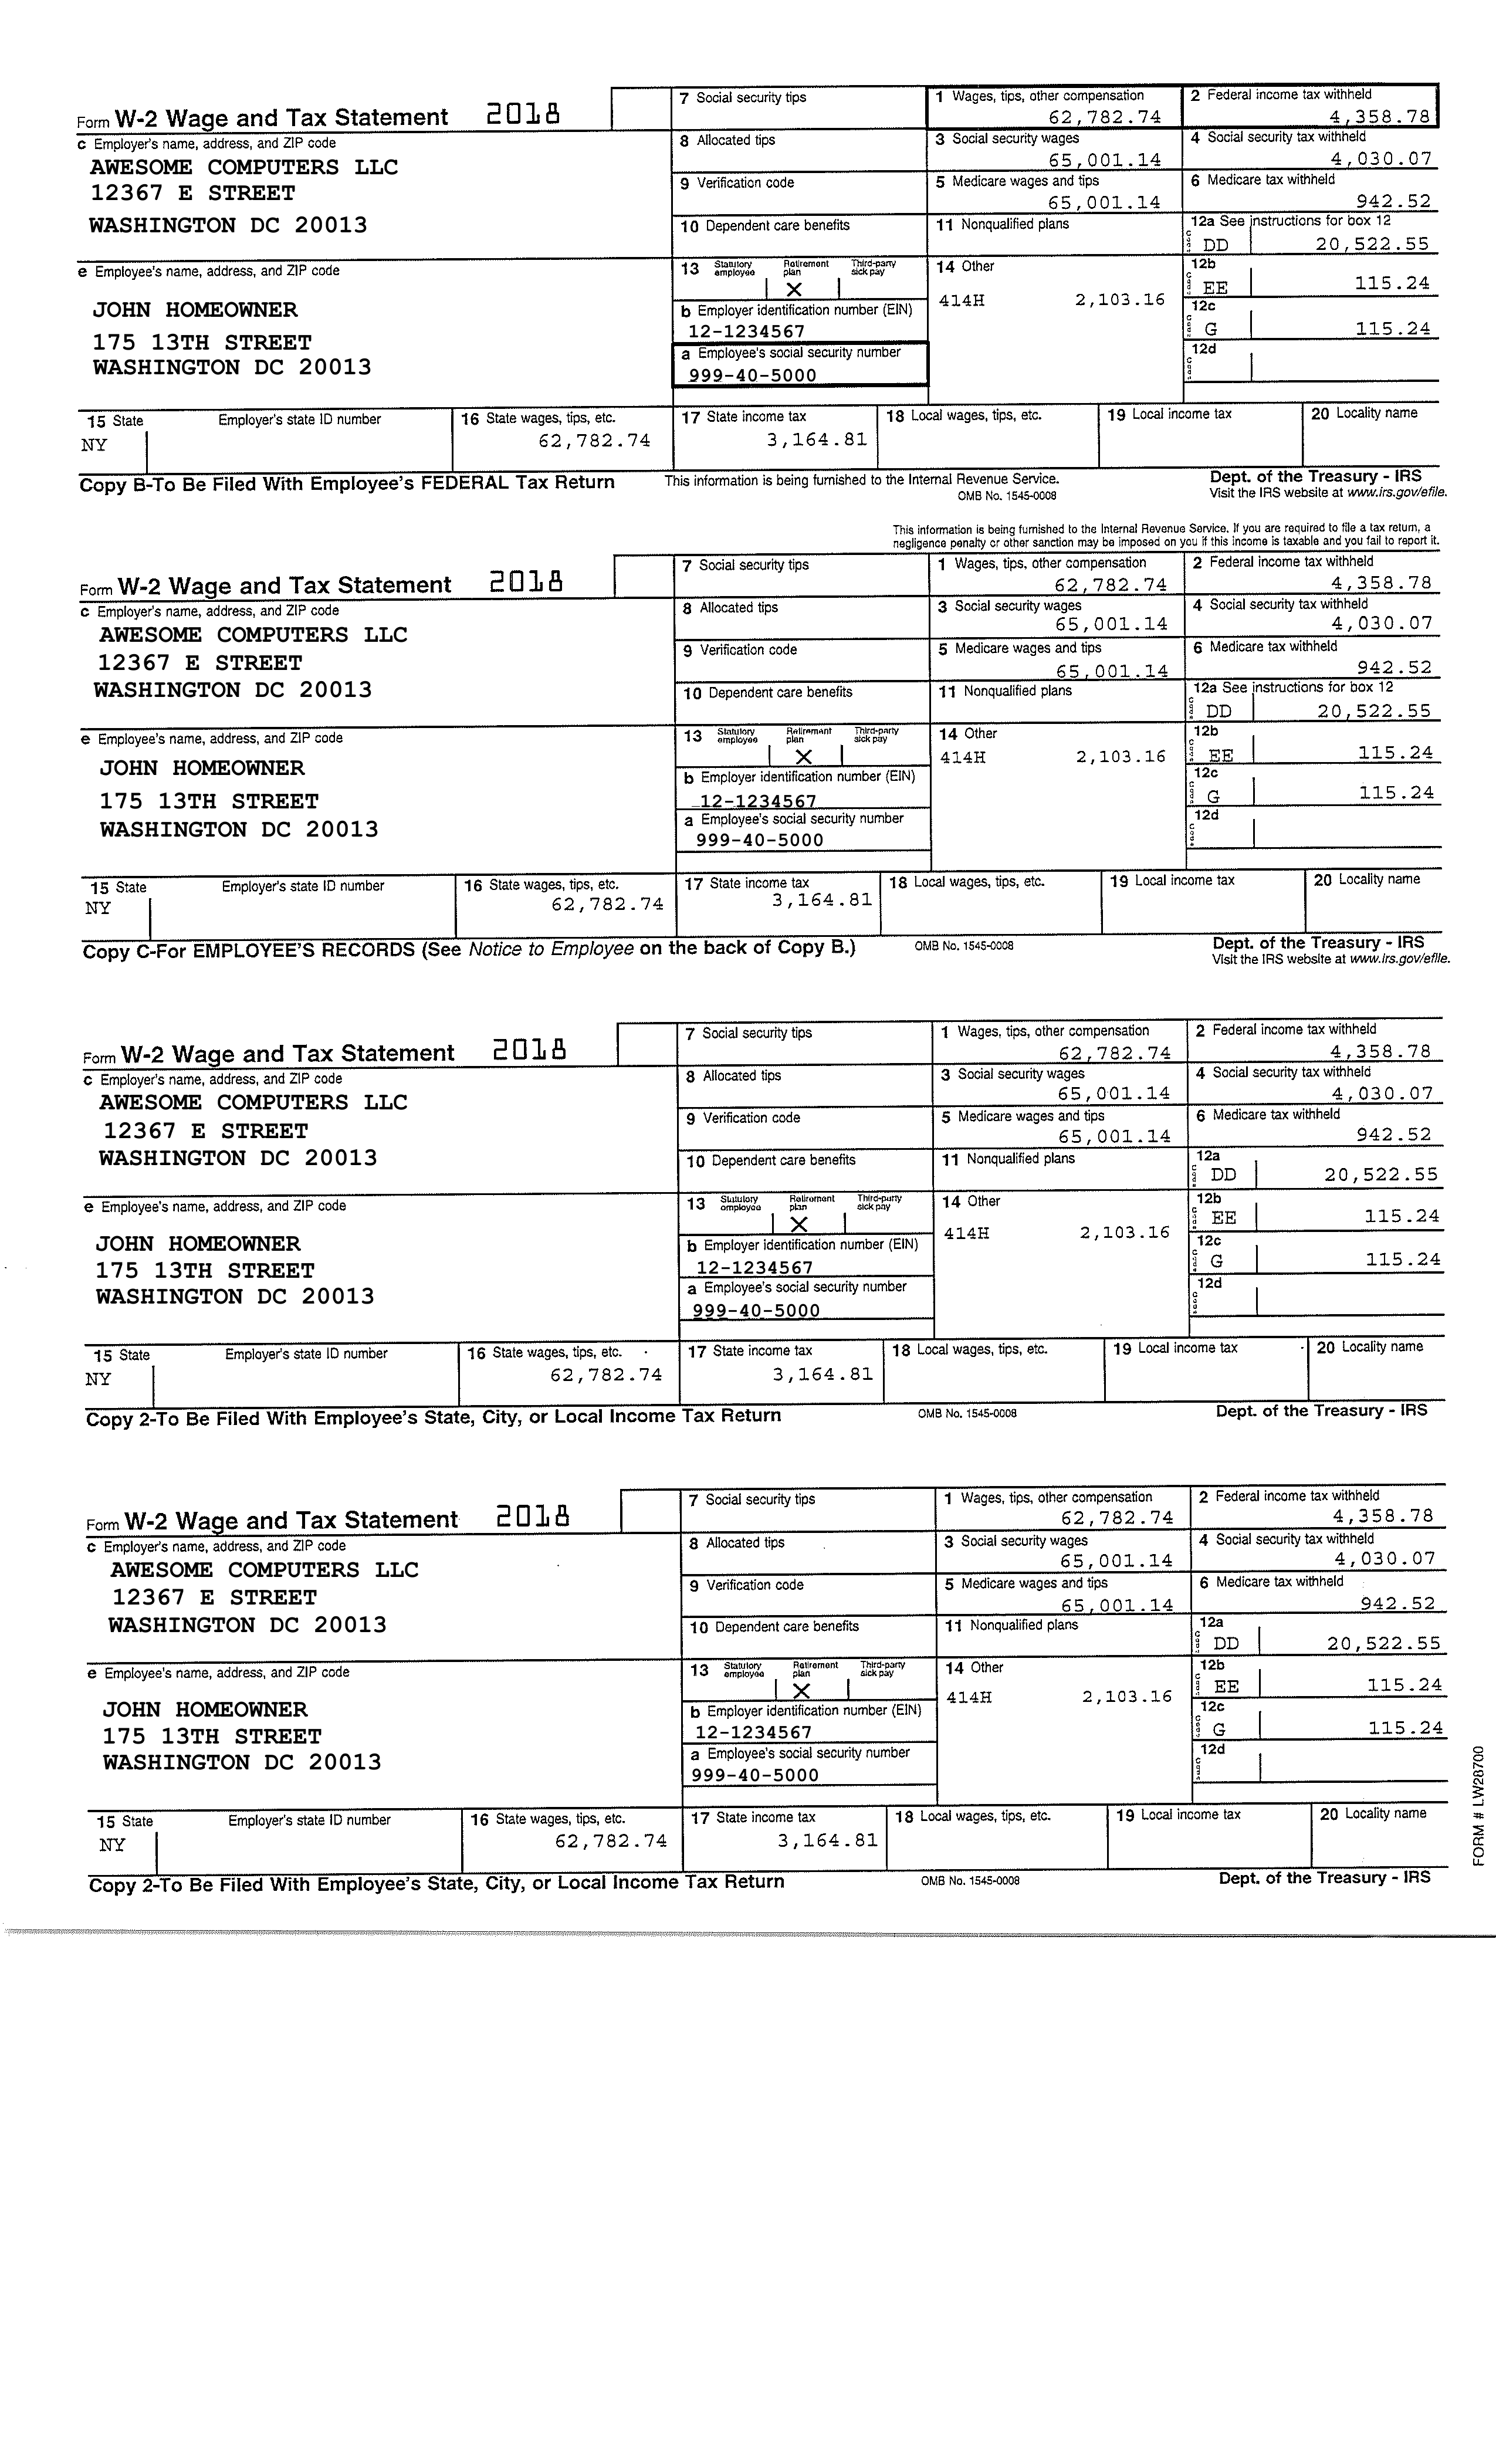table: (74, 81, 1441, 470), (74, 551, 1441, 938), (79, 1019, 1447, 1406), (83, 1484, 1450, 1871)
